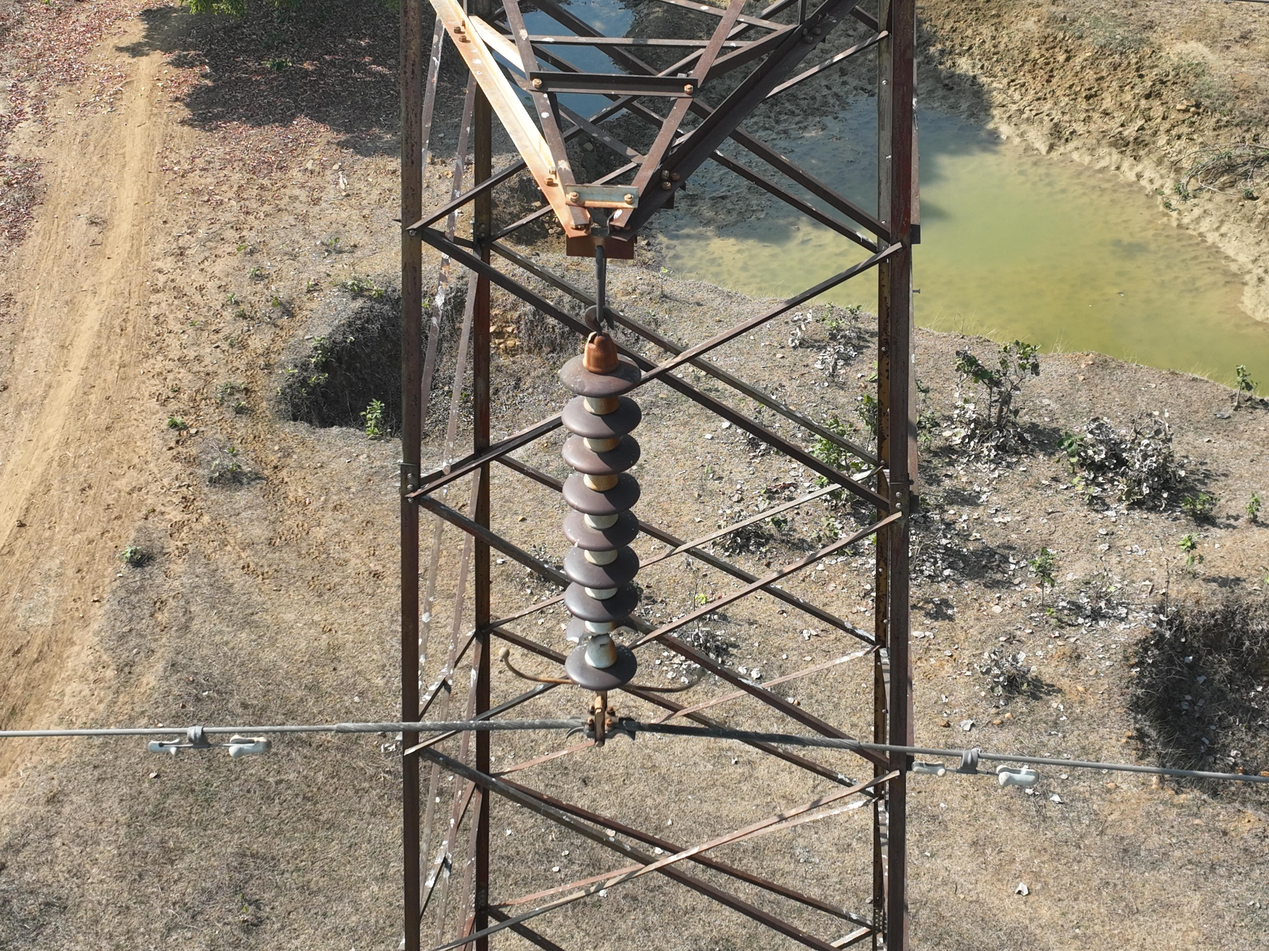broken_insulator: (561, 613, 646, 655)
